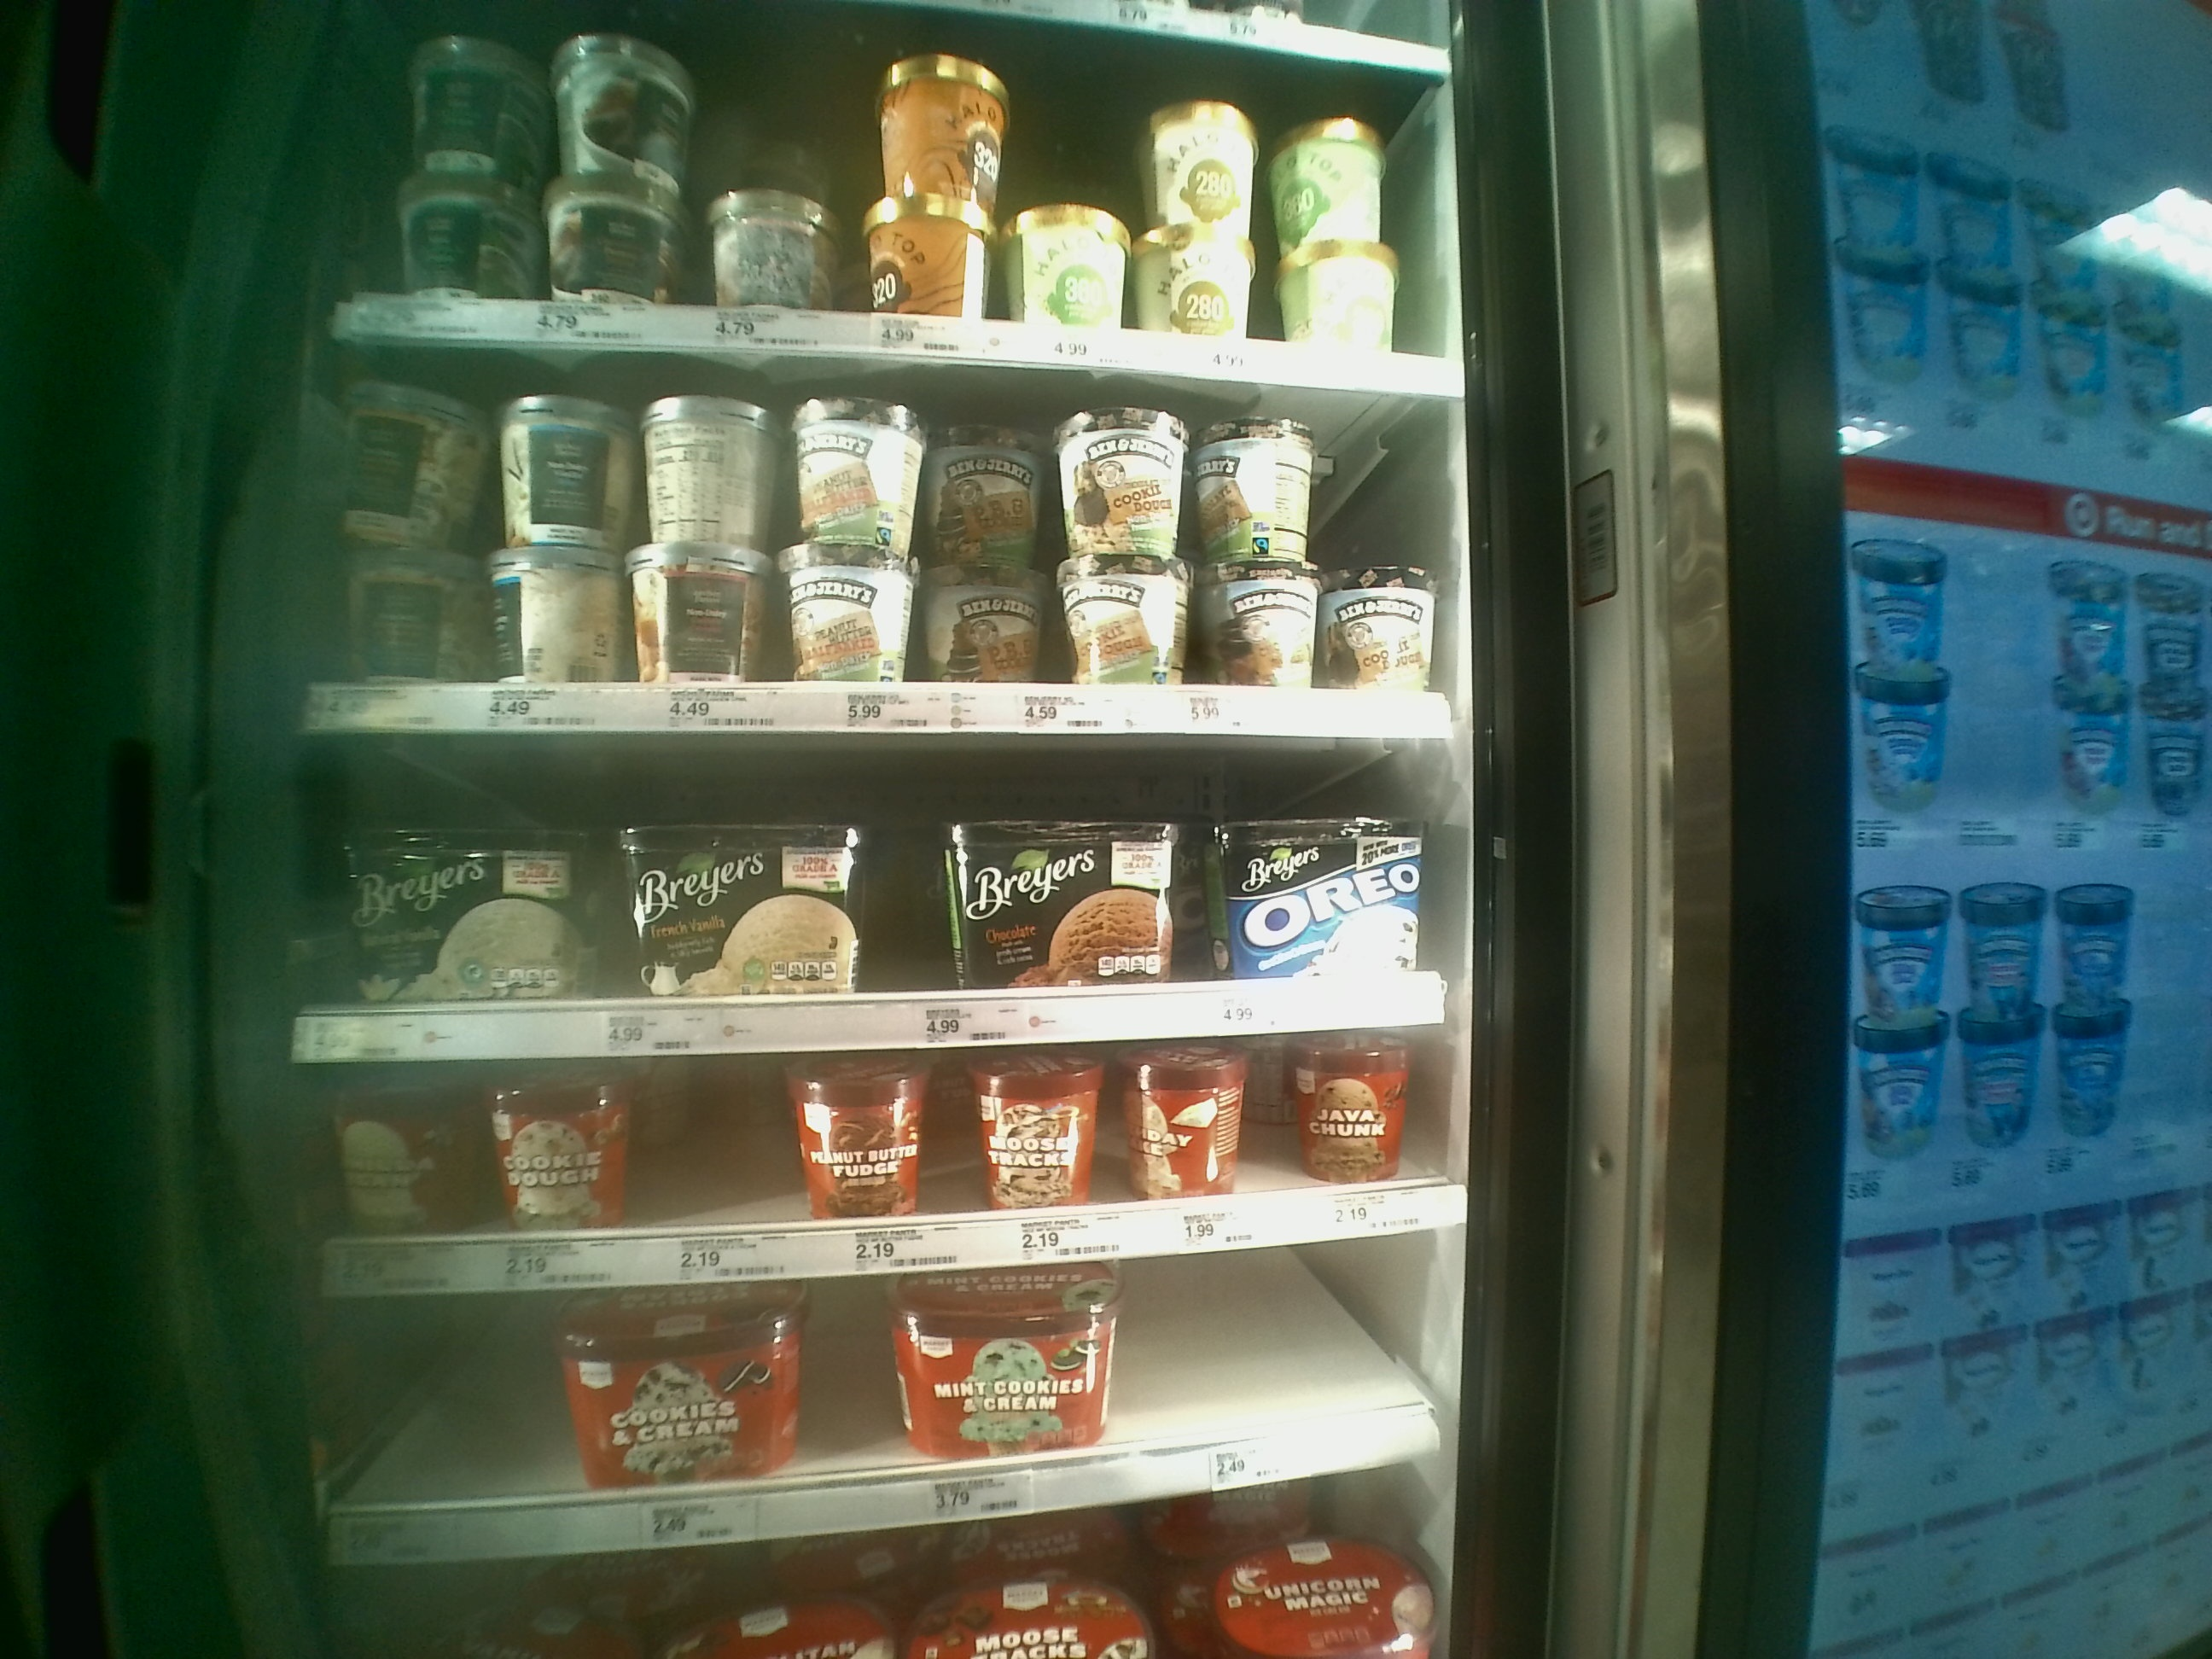ice-cream-shelf: (303, 361, 1474, 739), (296, 732, 1468, 1047), (303, 1063, 1475, 1284)
